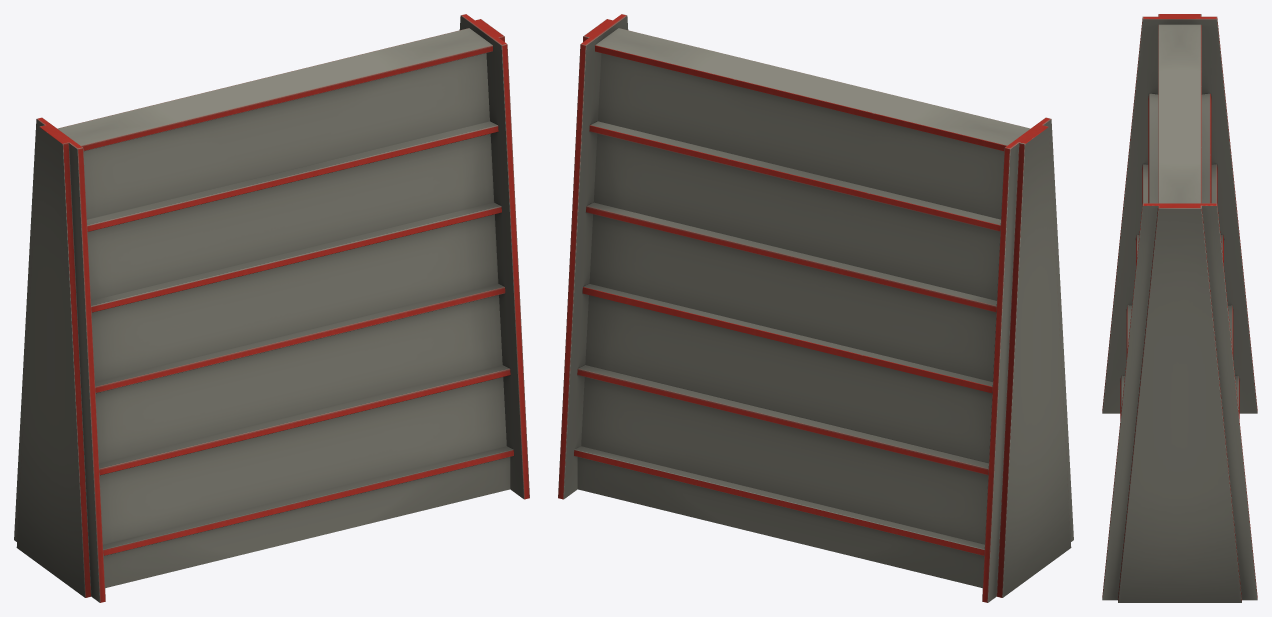
Rendered from video_store_shelf_small.obj.
3 renders of one model, left to right at view 1: azimuth 30°, elevation 25°; view 2: azimuth 150°, elevation 25°; view 3: azimuth 270°, elevation 25°, orthographic. The views are drawn at different scales.
Parts seen in each view (by area): view 1: Mesh14_Group19_Group18_Group1_Model; view 2: Mesh14_Group19_Group18_Group1_Model; view 3: Mesh14_Group19_Group18_Group1_Model.
Part boxes in pixels (bbox=[...]): Mesh14_Group19_Group18_Group1_Model: bbox=[14, 14, 529, 602]; Mesh14_Group19_Group18_Group1_Model: bbox=[558, 14, 1073, 602]; Mesh14_Group19_Group18_Group1_Model: bbox=[1102, 14, 1257, 602].
Size of the model in its own units: 1.48 by 1.4 by 0.5.
Materials: 1 (1 with a texture image).
